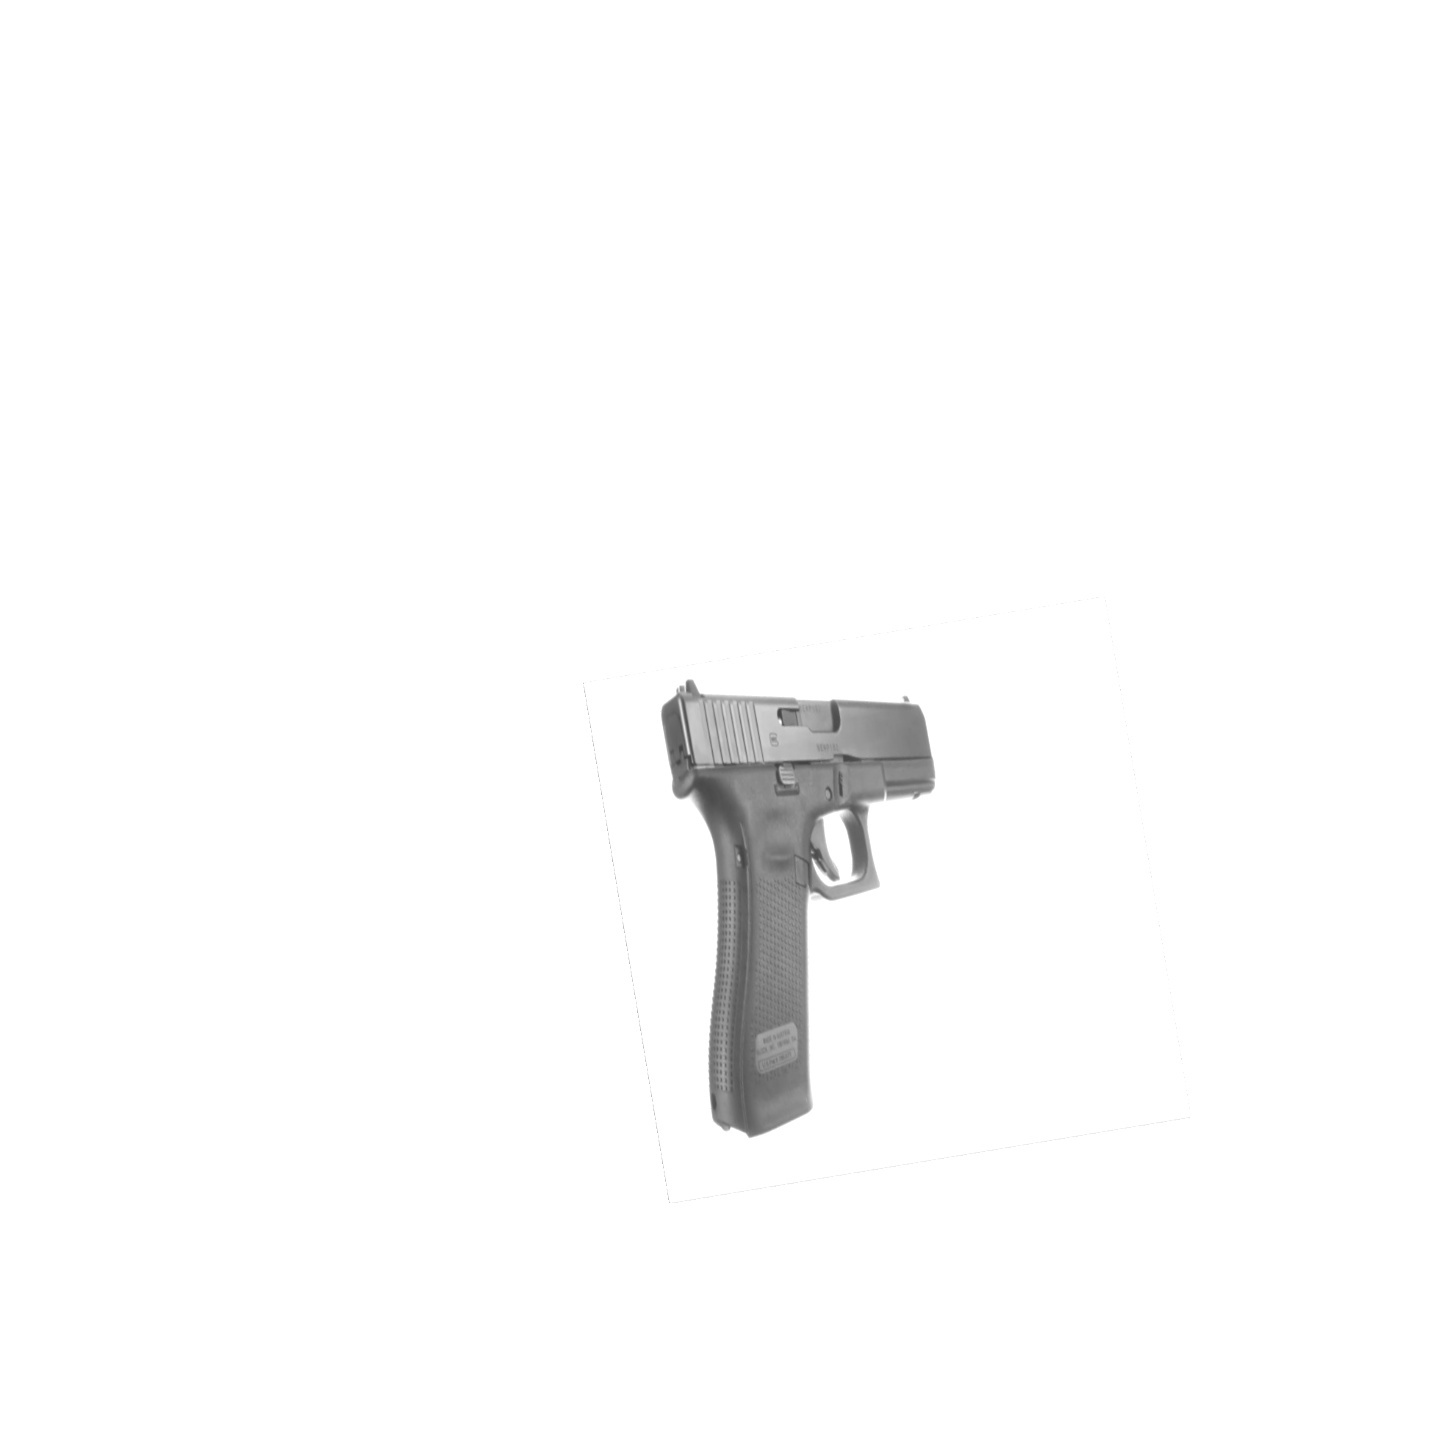gun: (662, 682, 935, 1138)
